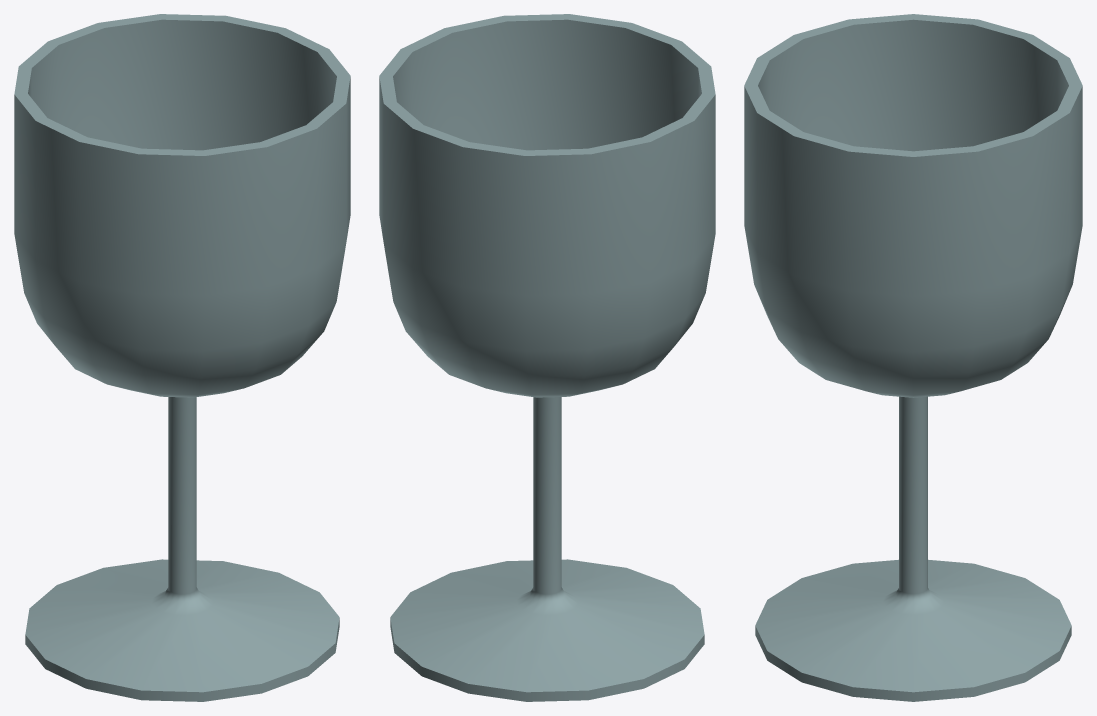
The model's file is SM_Glass.fbx.
The picture shows the model from 3 angles, left to right: view 1: azimuth 30°, elevation 25°; view 2: azimuth 150°, elevation 25°; view 3: azimuth 270°, elevation 25°; orthographic projection.
Visible parts, largest first — view 1: SM_Glass_cup; view 2: SM_Glass_cup; view 3: SM_Glass_cup.
Boxes of the visible parts, x1=… form: SM_Glass_cup: x1=14, y1=14, x2=350, y2=701; SM_Glass_cup: x1=379, y1=14, x2=715, y2=701; SM_Glass_cup: x1=744, y1=14, x2=1082, y2=701.
Size of the model in its own units: 11.22 by 20.1 by 11.22.
